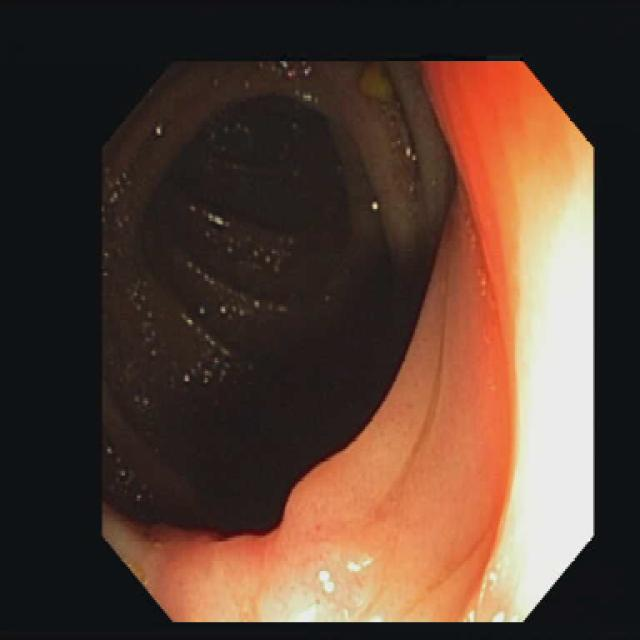tumor: (143, 442, 377, 620)
